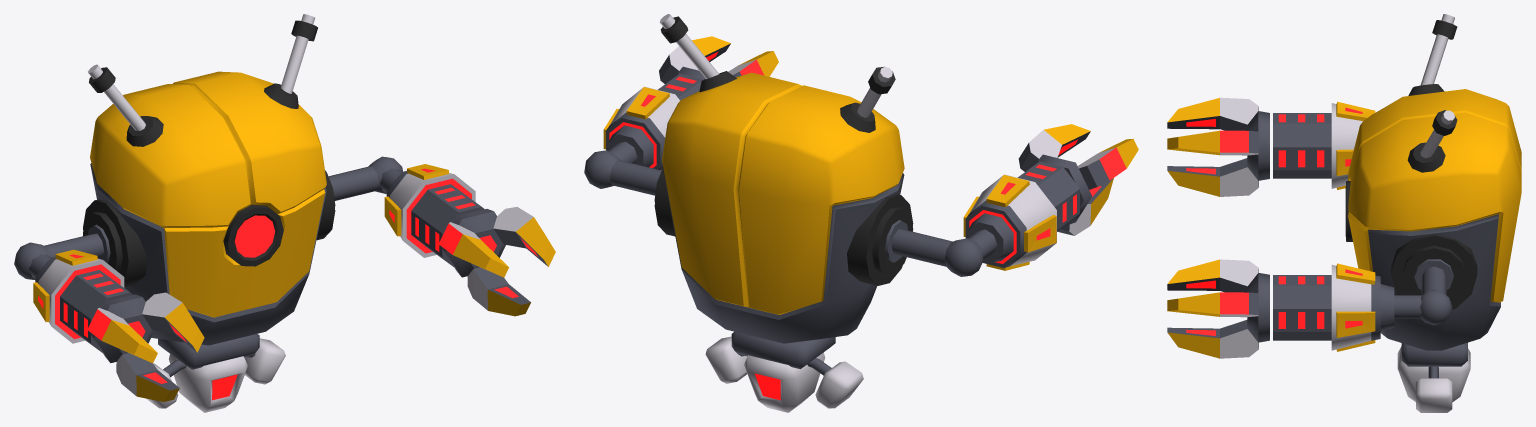
Rendered from CripGun.fbx.
3 views of the same model, side by side, from view 1: azimuth 30°, elevation 25°; view 2: azimuth 150°, elevation 25°; view 3: azimuth 270°, elevation 25° (orthographic). The views are drawn at different scales.
Parts seen in each view (by area): view 1: CripGn_Body, GunRight, GunLeft, CripGun_Down, Hand_Right, ClawLeft_3, ClawRight_3, ClawLeft_1, ClawRight_1, Hand_Left, ClawLeft_2, ClawRight_2 (+2 smaller); view 2: CripGn_Body, GunRight, CripGun_Down, GunLeft, Hand_Right, Hand_Left, ClawRight_3, ClawRight_2, ClawLeft_3, CripGun_LeftAntenna, ClawRight_1, CripGun_RightAntenna (+1 smaller); view 3: CripGn_Body, GunLeft, GunRight, CripGun_Down, Hand_Left, ClawRight_1, ClawLeft_1, ClawLeft_2, ClawRight_2, ClawRight_3, ClawLeft_3, CripGun_RightAntenna (+1 smaller).
Boxes of the visible parts, <box> form: CripGn_Body: <box>83,71,335,369</box>; GunRight: <box>33,249,154,363</box>; GunLeft: <box>384,164,505,277</box>; CripGun_Down: <box>146,338,285,412</box>; Hand_Right: <box>14,224,110,279</box>; ClawLeft_3: <box>493,207,555,266</box>; ClawRight_3: <box>142,292,204,352</box>; ClawLeft_1: <box>467,267,530,316</box>; ClawRight_1: <box>116,353,179,401</box>; Hand_Left: <box>328,156,402,200</box>; ClawLeft_2: <box>439,222,508,277</box>; ClawRight_2: <box>87,308,157,363</box>; CripGn_Body: <box>654,71,913,369</box>; GunRight: <box>963,154,1092,270</box>; CripGun_Down: <box>705,336,863,412</box>; GunLeft: <box>603,66,705,170</box>; Hand_Right: <box>885,220,997,276</box>; Hand_Left: <box>584,141,661,195</box>; ClawRight_3: <box>1018,124,1090,171</box>; ClawRight_2: <box>1077,138,1138,189</box>; ClawLeft_3: <box>659,36,730,83</box>; CripGun_LeftAntenna: <box>659,14,718,78</box>; ClawRight_1: <box>1057,178,1113,235</box>; CripGun_RightAntenna: <box>857,66,895,117</box>; CripGn_Body: <box>1345,84,1521,366</box>; GunLeft: <box>1247,263,1394,351</box>; GunRight: <box>1247,101,1375,189</box>; CripGun_Down: <box>1397,346,1470,412</box>; Hand_Left: <box>1394,259,1453,325</box>; ClawRight_1: <box>1167,158,1258,196</box>; ClawLeft_1: <box>1167,320,1258,358</box>; ClawLeft_2: <box>1167,259,1258,292</box>; ClawRight_2: <box>1167,97,1258,130</box>; ClawRight_3: <box>1167,130,1258,155</box>; ClawLeft_3: <box>1167,292,1258,317</box>; CripGun_RightAntenna: <box>1420,14,1457,85</box>.
Size of the model in its own units: 727 by 567 by 535.
